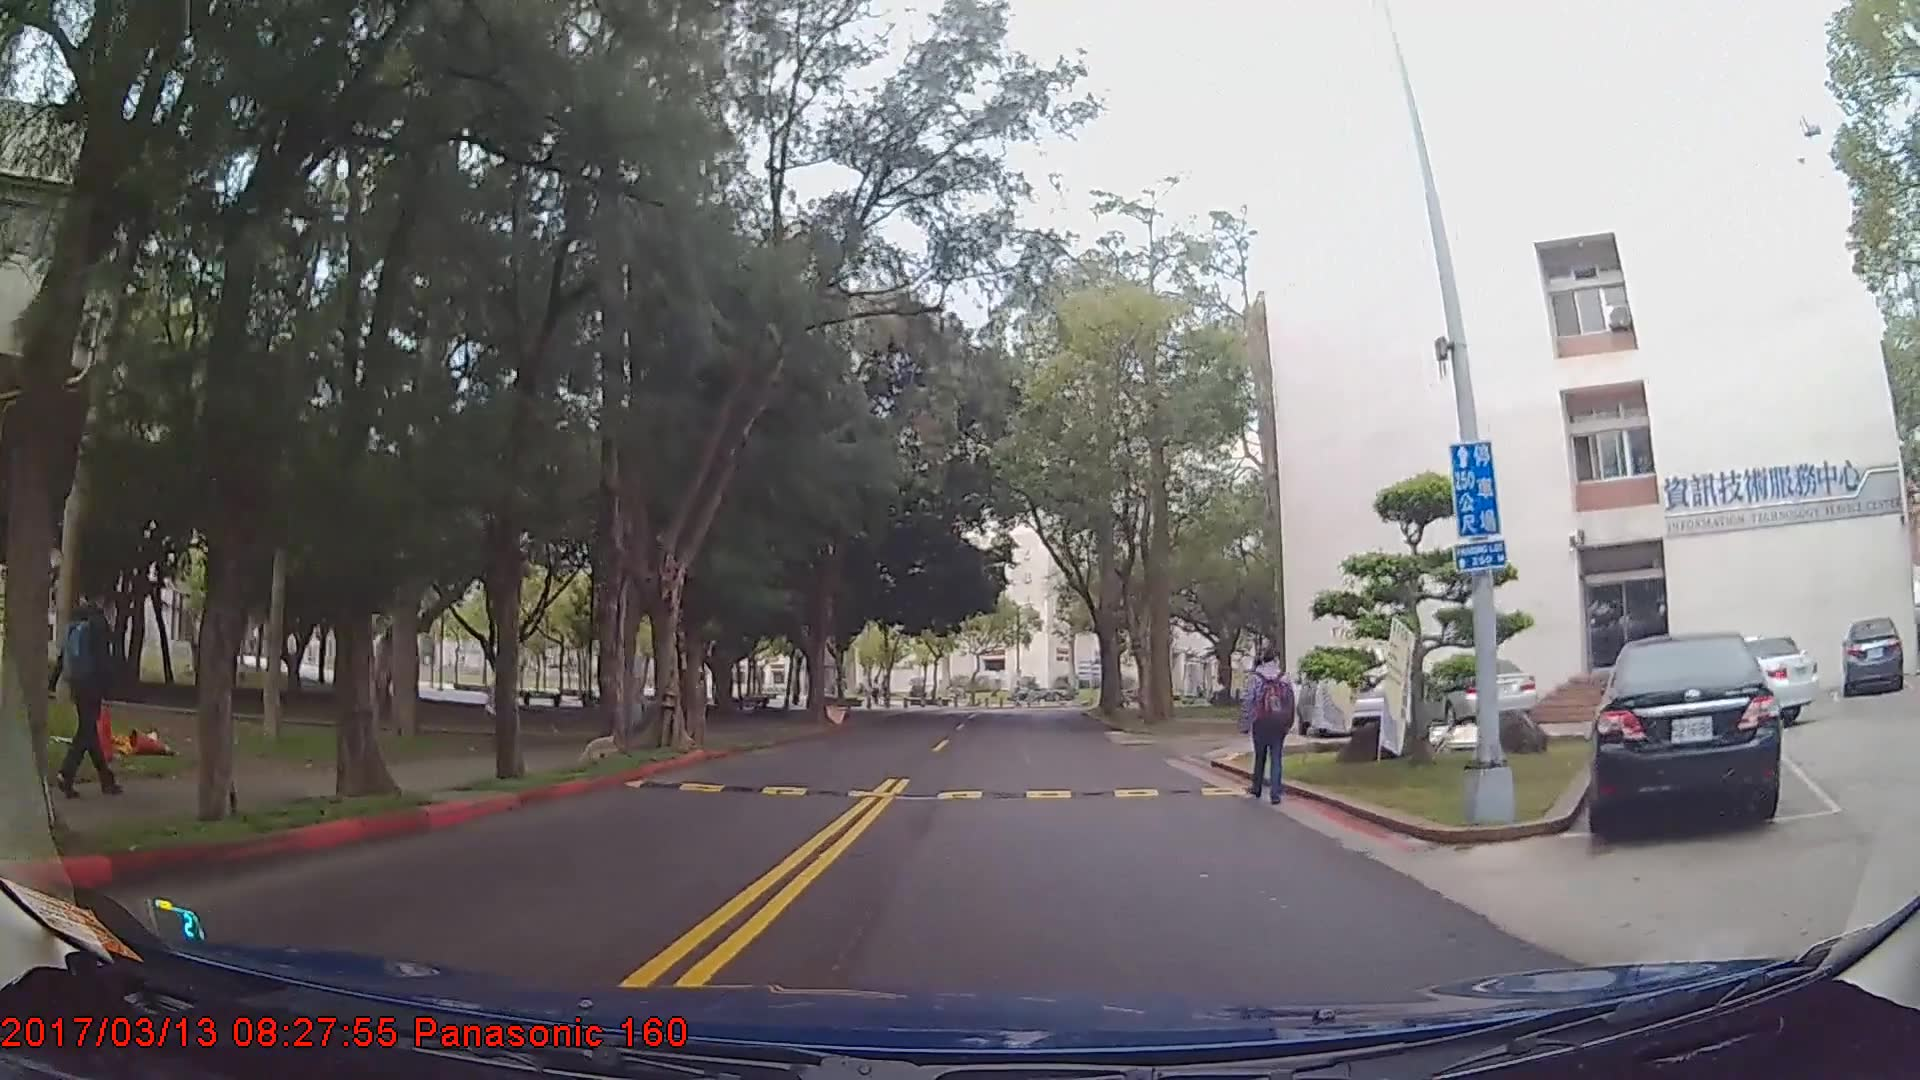pedestrian: (1239, 647, 1310, 811)
vehicle: (1585, 630, 1781, 838), (1659, 630, 1816, 726), (1415, 654, 1535, 726), (1838, 615, 1902, 696)
